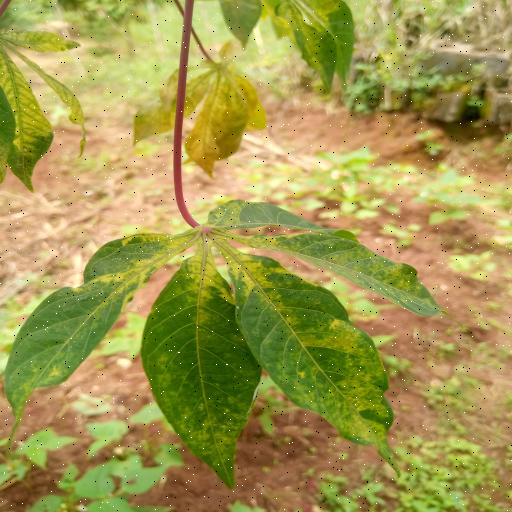Cassava_Mosaic: (2, 188, 437, 484)
